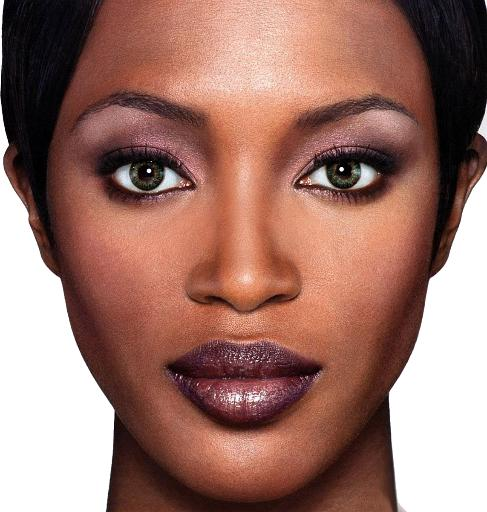left_eye: (296, 151, 389, 192)
left_lip_corner: (307, 360, 331, 378)
right_eye: (102, 153, 198, 201)
right_lip_corner: (162, 360, 183, 380)
